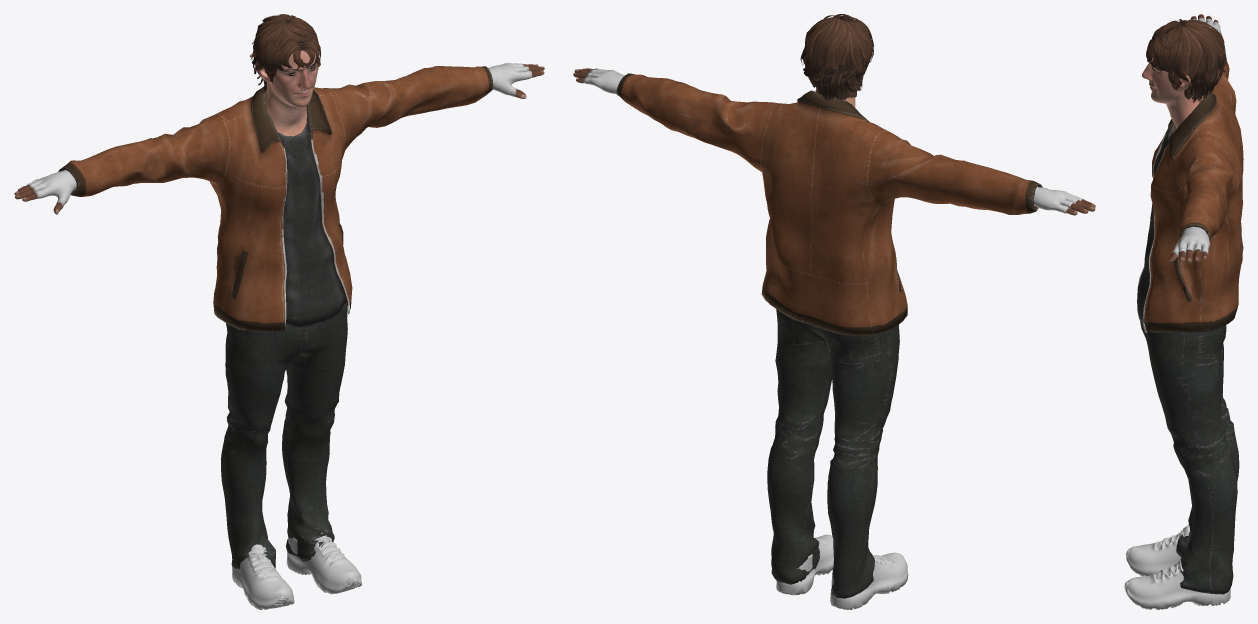
File: FriendCharacter.obj
The picture shows the model from 3 angles, left to right: view 1: azimuth 30°, elevation 25°; view 2: azimuth 150°, elevation 25°; view 3: azimuth 270°, elevation 25°; orthographic projection.
Visible parts, largest first — view 1: Tops, Bottoms, Shoes, Body, Hair, Gloves; view 2: Tops, Bottoms, Hair, Shoes, Gloves; view 3: Tops, Bottoms, Hair, Shoes, Body, Gloves.
Boxes of the visible parts, left/top/right/bottom form: Tops: left=58, top=66, right=493, bottom=332; Bottoms: left=221, top=305, right=347, bottom=569; Shoes: left=232, top=533, right=361, bottom=609; Body: left=14, top=43, right=544, bottom=214; Hair: left=249, top=14, right=320, bottom=92; Gloves: left=26, top=63, right=532, bottom=208; Tops: left=616, top=73, right=1042, bottom=335; Bottoms: left=767, top=309, right=899, bottom=598; Hair: left=800, top=14, right=874, bottom=100; Shoes: left=776, top=534, right=908, bottom=609; Gloves: left=583, top=68, right=1083, bottom=213; Tops: left=1137, top=28, right=1243, bottom=332; Bottoms: left=1140, top=321, right=1239, bottom=594; Hair: left=1146, top=19, right=1226, bottom=102; Shoes: left=1124, top=525, right=1230, bottom=609; Body: left=1142, top=14, right=1218, bottom=263; Gloves: left=1172, top=17, right=1220, bottom=257.
Size of the model in its own units: 179 by 185 by 35.4.
